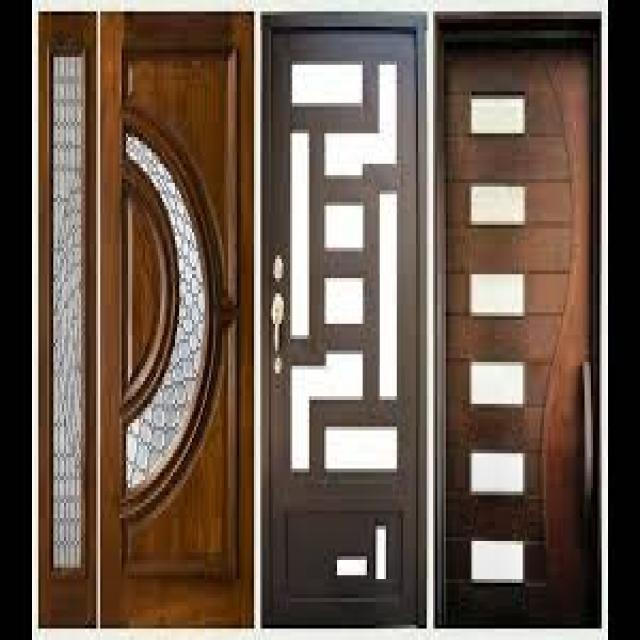door: (42, 17, 250, 629)
